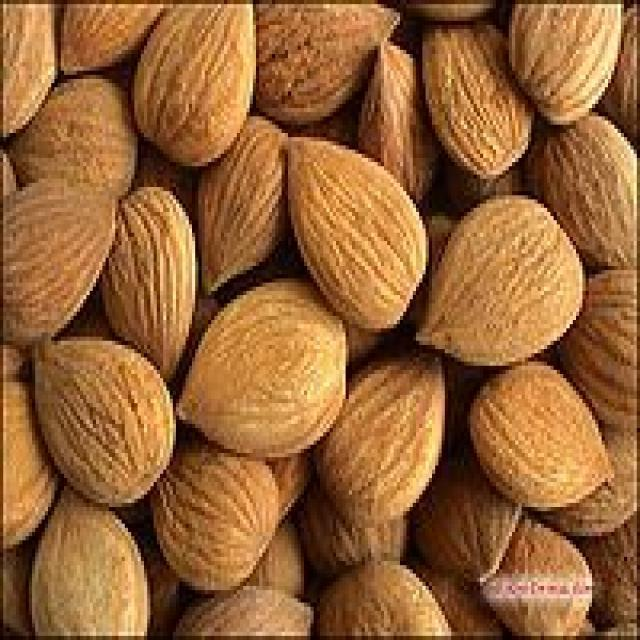almond: (177, 279, 347, 459), (279, 133, 429, 332), (417, 193, 587, 367), (30, 333, 178, 510), (310, 352, 447, 525), (467, 357, 617, 512), (132, 0, 260, 170), (0, 177, 120, 352), (150, 437, 280, 592), (28, 481, 148, 640), (190, 113, 293, 297), (420, 18, 535, 177), (257, 0, 398, 125), (107, 183, 195, 377), (2, 77, 140, 200), (535, 113, 640, 270), (354, 38, 439, 217), (503, 0, 624, 123), (413, 457, 522, 582), (481, 521, 593, 640), (561, 270, 640, 431), (313, 560, 455, 640), (53, 0, 171, 83), (0, 0, 58, 140), (178, 588, 316, 640)
